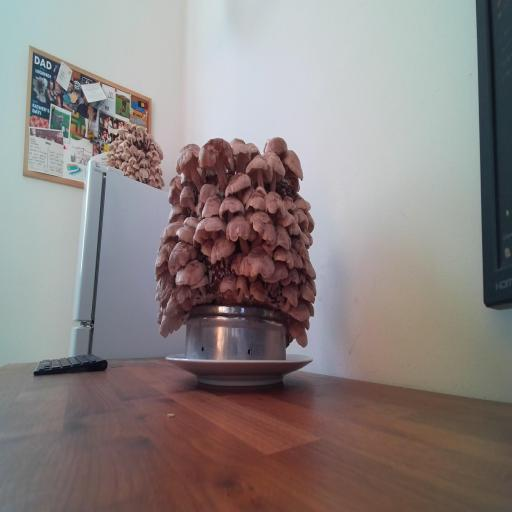Shiitake Mushroom: (182, 123, 252, 193), (213, 205, 268, 260), (170, 133, 213, 191), (156, 231, 206, 278), (236, 146, 285, 193), (217, 161, 259, 212), (147, 229, 180, 281), (235, 244, 279, 283), (259, 141, 290, 193), (210, 188, 252, 225), (276, 144, 314, 182), (259, 185, 290, 230), (170, 256, 212, 289), (282, 313, 316, 352), (227, 129, 255, 172), (250, 208, 277, 250), (162, 282, 197, 314), (191, 175, 226, 206), (257, 257, 293, 287), (244, 274, 272, 310), (282, 296, 317, 324), (154, 216, 188, 244), (260, 132, 293, 160), (268, 242, 301, 270), (287, 233, 316, 263), (185, 272, 216, 300), (156, 273, 179, 310), (295, 277, 319, 310), (287, 203, 315, 231), (195, 215, 227, 239), (197, 193, 226, 219), (284, 243, 308, 274), (211, 236, 236, 265), (166, 171, 184, 208), (152, 265, 174, 295), (233, 271, 252, 304), (281, 166, 305, 192), (172, 222, 199, 245), (162, 200, 189, 223), (178, 182, 198, 212), (279, 283, 299, 313), (270, 224, 292, 250), (159, 314, 182, 338), (275, 207, 300, 229), (299, 207, 319, 234), (198, 232, 217, 259), (302, 271, 321, 298), (290, 194, 315, 214), (229, 247, 246, 276), (302, 258, 319, 285), (279, 267, 301, 286), (245, 191, 266, 210), (245, 136, 261, 160), (295, 229, 315, 248), (219, 274, 238, 292), (181, 214, 202, 229), (304, 297, 318, 319), (282, 196, 298, 211), (288, 221, 301, 236), (299, 257, 310, 274), (254, 185, 269, 197), (156, 303, 164, 324), (297, 269, 306, 285), (301, 319, 310, 332)
